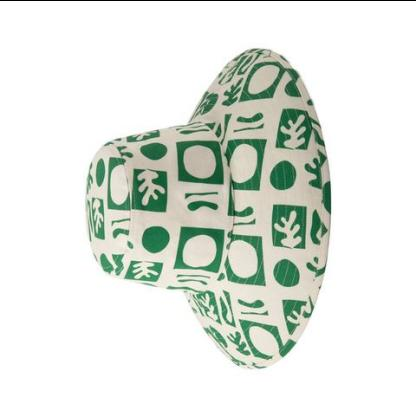hat: (80, 46, 335, 376)
